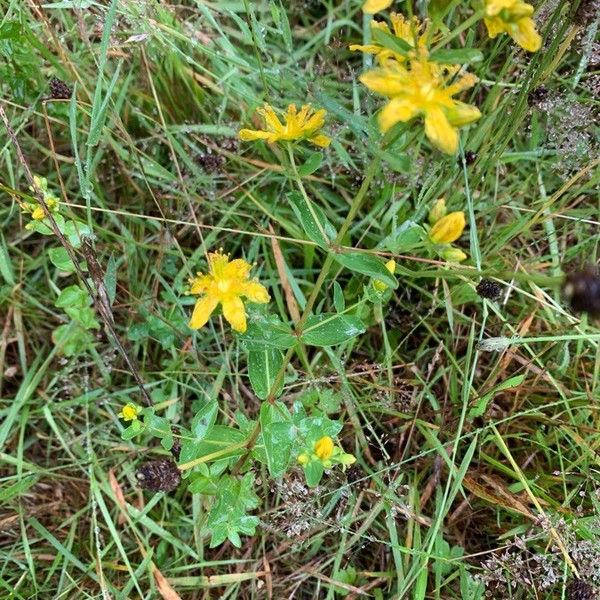obstacle: (39, 95, 400, 504)
